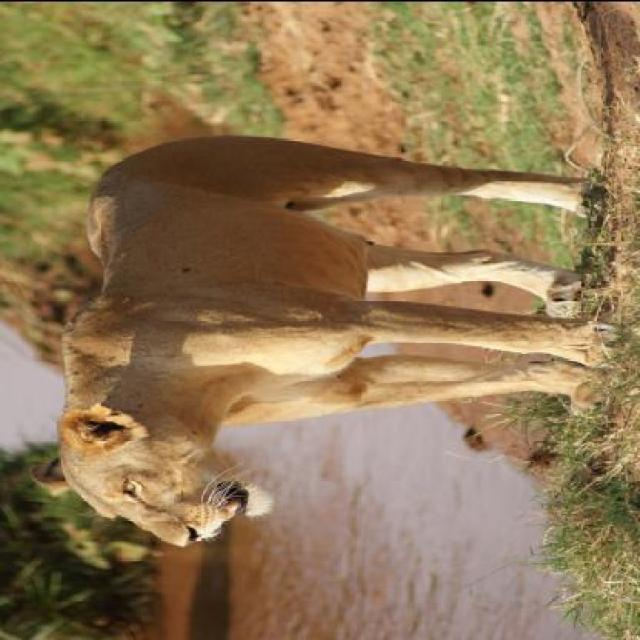Lion: (31, 123, 626, 577)
